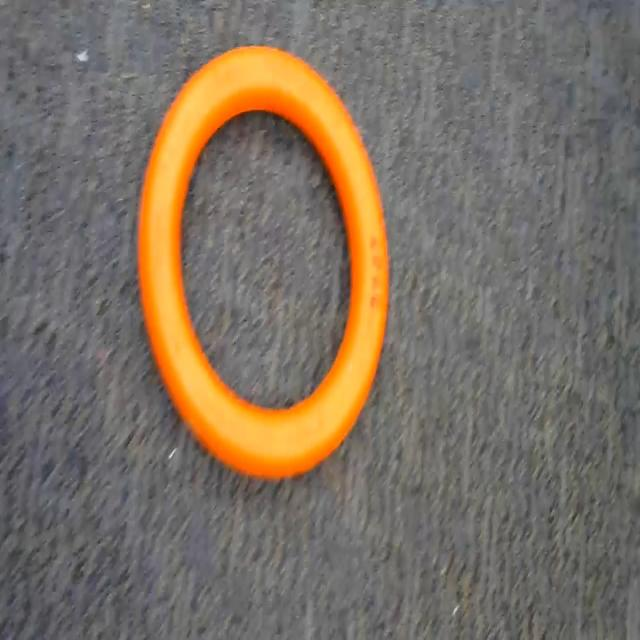note: (130, 33, 406, 494)
